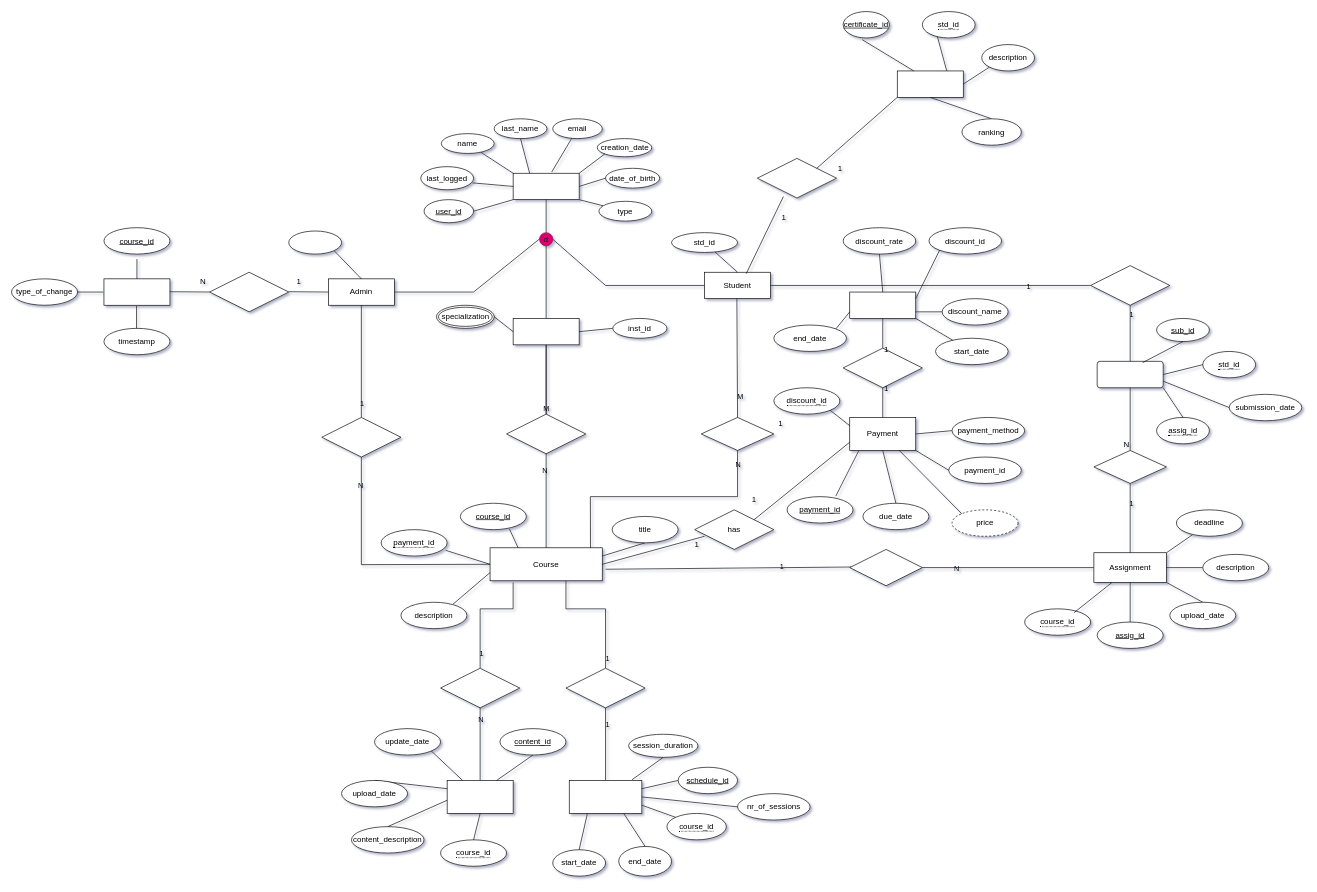
Image size: 1317x892. Some labels were removed from this diagram. Here are the shapes that lost their labels. From the top down, the centre of each, then its label:
At pixel 930 83: "Certification".
At pixel 545 186: "User".
At pixel 797 178: "earns".
At pixel 315 242: "admin_id".
At pixel 136 291: "Change Log".
At pixel 249 292: "history of".
At pixel 882 304: "Discount".
At pixel 1130 285: "turns in".
At pixel 545 331: "Instructor".
At pixel 882 367: "applies".
At pixel 1130 374: "Submission".
At pixel 361 437: "administrates".
At pixel 546 433: "teaches".
At pixel 737 433: "enrolls".
At pixel 1129 466: "includes".
At pixel 885 567: "contains".
At pixel 480 688: "provides".
At pixel 605 688: "consists of".
At pixel 479 796: "Content".
At pixel 605 796: "Schedule".
